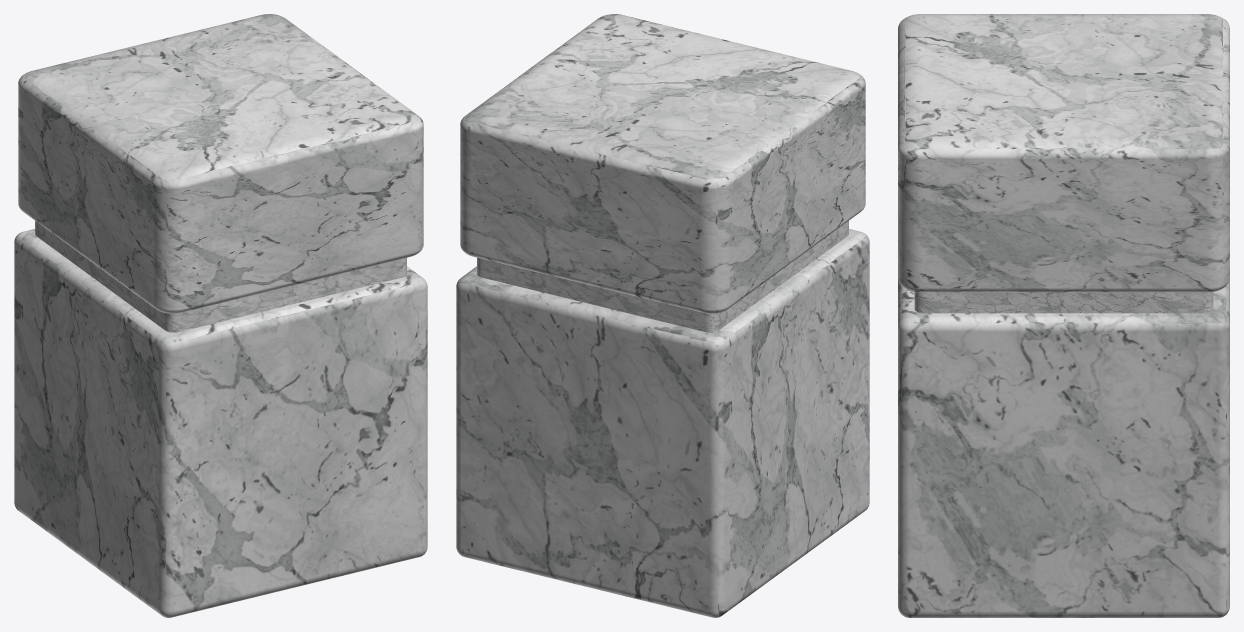
File: shortLightFlatSquare.glb
3 renders of one model, left to right at view 1: azimuth 30°, elevation 25°; view 2: azimuth 150°, elevation 25°; view 3: azimuth 270°, elevation 25°, orthographic. The views are drawn at different scales.
Parts seen in each view (by area): view 1: shortLightFlatSquare; view 2: shortLightFlatSquare; view 3: shortLightFlatSquare.
Part boxes in pixels (x1=…): shortLightFlatSquare: x1=14, y1=14, x2=427, y2=617; shortLightFlatSquare: x1=456, y1=14, x2=869, y2=617; shortLightFlatSquare: x1=898, y1=14, x2=1229, y2=617.
Bounding box in the file's own units: 2 × 3.15 × 2.
Materials: 3 (3 with a texture image).
